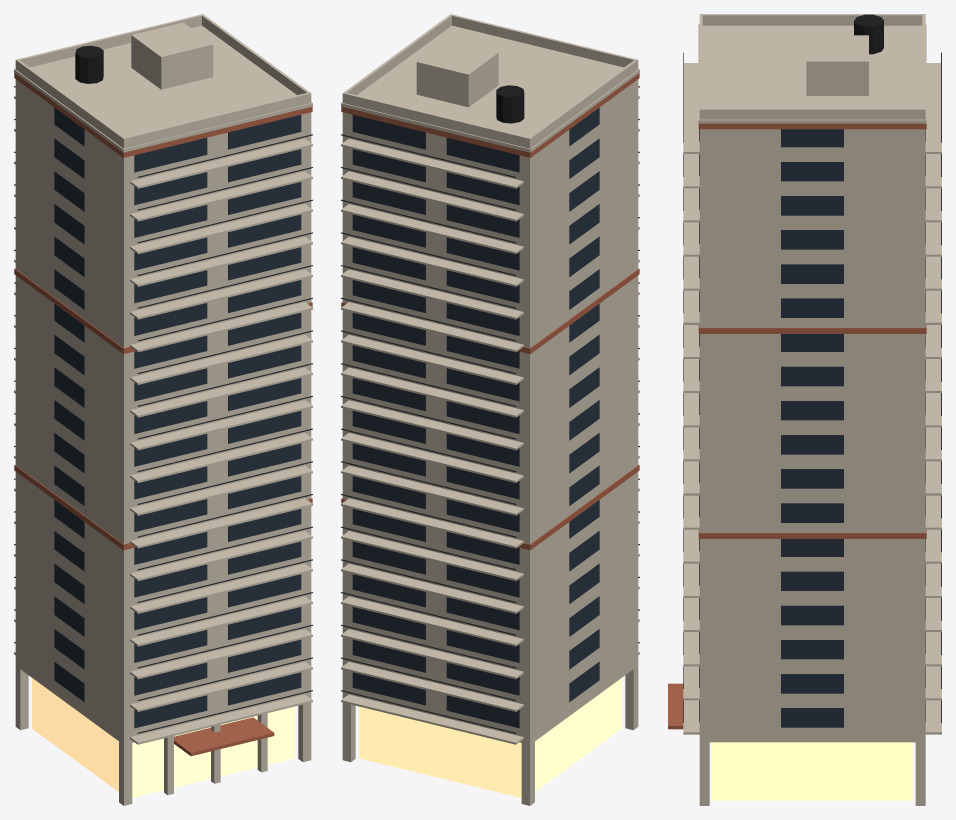
File: bld_dt_tower_c.glb
3 views of the same model, side by side, from view 1: azimuth 30°, elevation 25°; view 2: azimuth 150°, elevation 25°; view 3: azimuth 270°, elevation 25° (orthographic). The views are drawn at different scales.
Parts seen in each view (by area): view 1: bld_dt_tower_c; view 2: bld_dt_tower_c; view 3: bld_dt_tower_c.
Part boxes in pixels (box(x1,y1,x2,y2)): bld_dt_tower_c: box(14, 14, 312, 805); bld_dt_tower_c: box(341, 14, 639, 805); bld_dt_tower_c: box(668, 14, 941, 805).
Size of what is drawn, in the model's own units: 18.2 by 63.3 by 21.8.
